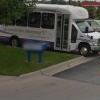Bus: (5, 2, 98, 55)
